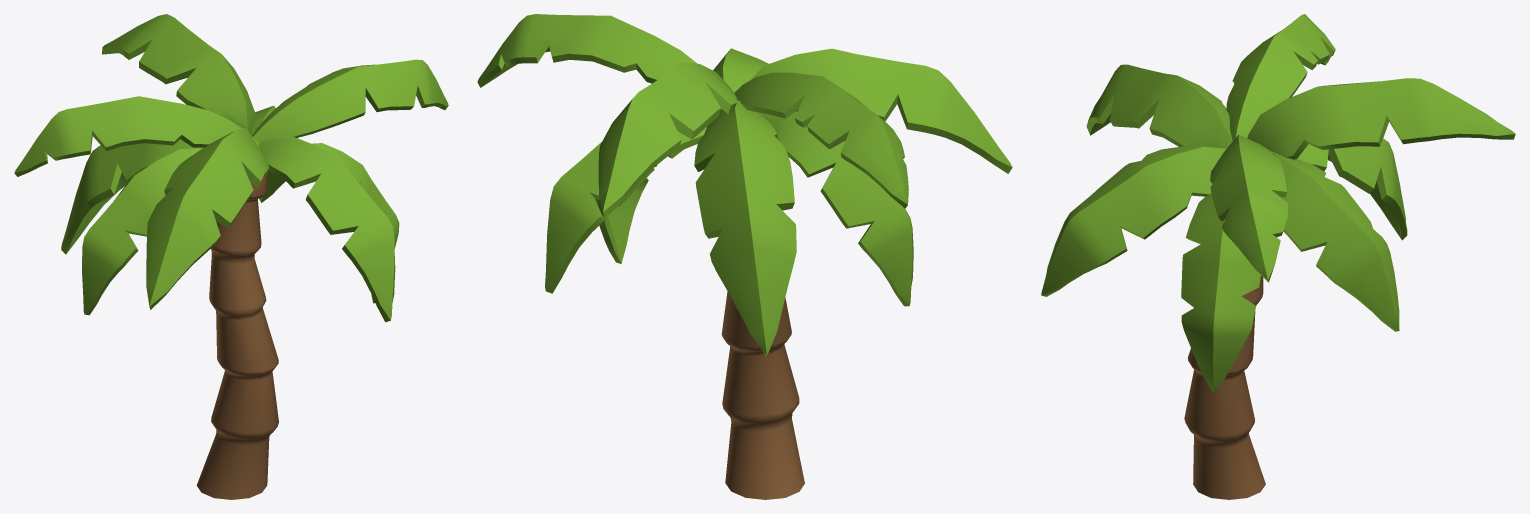
Rendered from palm1.glb.
The picture shows the model from 3 angles, left to right: view 1: azimuth 30°, elevation 25°; view 2: azimuth 150°, elevation 25°; view 3: azimuth 270°, elevation 25°; orthographic projection. The views are drawn at different scales.
Visible parts, largest first — view 1: Environment_PalmTree_3; view 2: Environment_PalmTree_3; view 3: Environment_PalmTree_3.
Part boxes in pixels (<box>): Environment_PalmTree_3: <box>14,14,448,499</box>; Environment_PalmTree_3: <box>477,14,1012,499</box>; Environment_PalmTree_3: <box>1041,14,1515,499</box>.
Bounding box in the file's own units: 2.86 × 2.69 × 2.75.
Materials: 1 (1 with a texture image).
